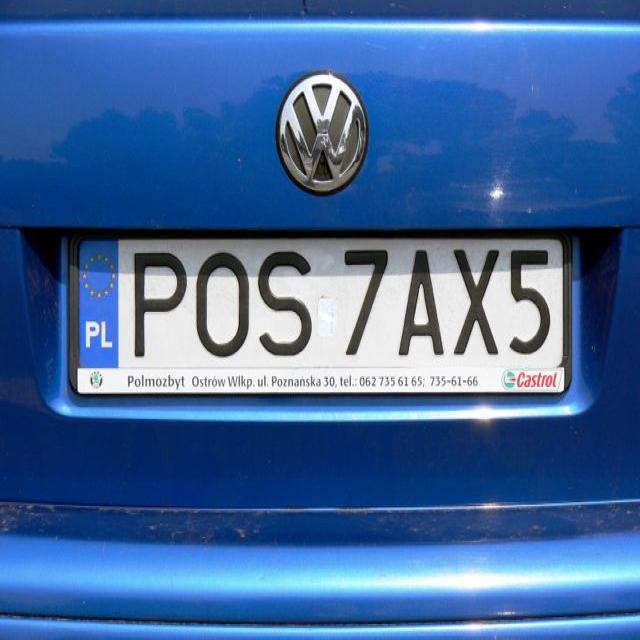pl_license_plate: (75, 234, 567, 370)
